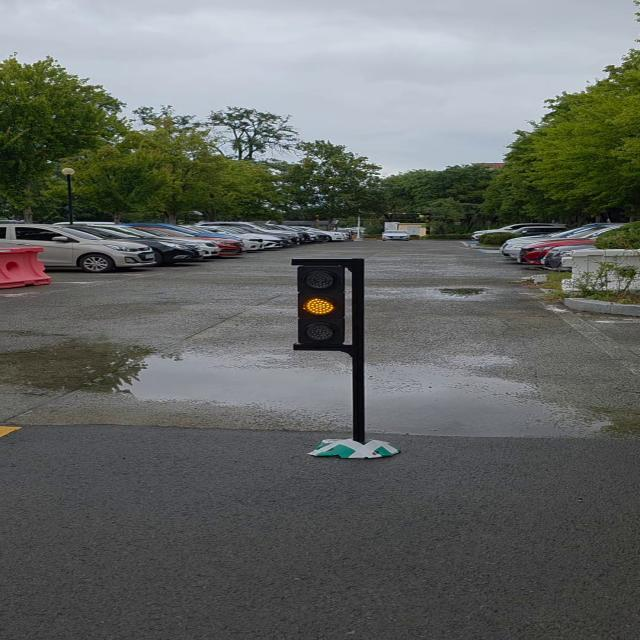yellow: (297, 258, 343, 348)
